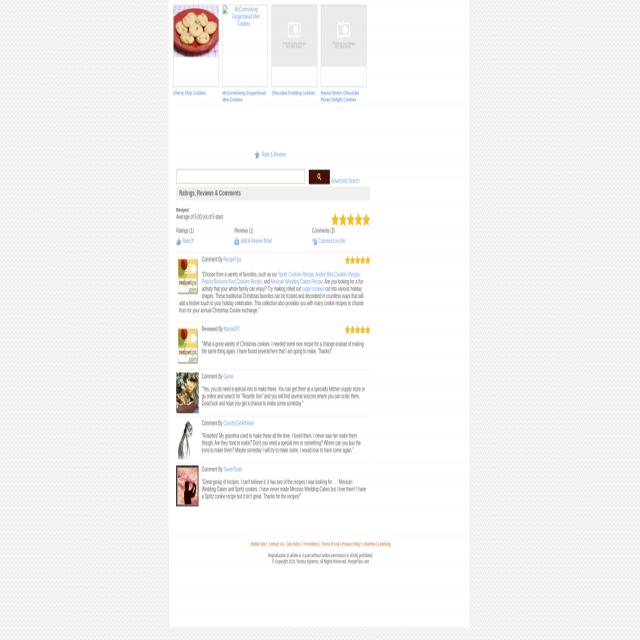button: (272, 5, 317, 87), (321, 6, 366, 88), (174, 5, 218, 88), (223, 6, 265, 88), (176, 255, 199, 297), (176, 465, 199, 507), (176, 325, 199, 366), (176, 373, 199, 414), (176, 419, 199, 460), (332, 213, 371, 225), (308, 169, 330, 184), (345, 255, 371, 264), (345, 325, 371, 334), (234, 237, 240, 246), (255, 150, 260, 160), (176, 237, 181, 246), (312, 237, 317, 246)
field: (176, 169, 305, 183)
